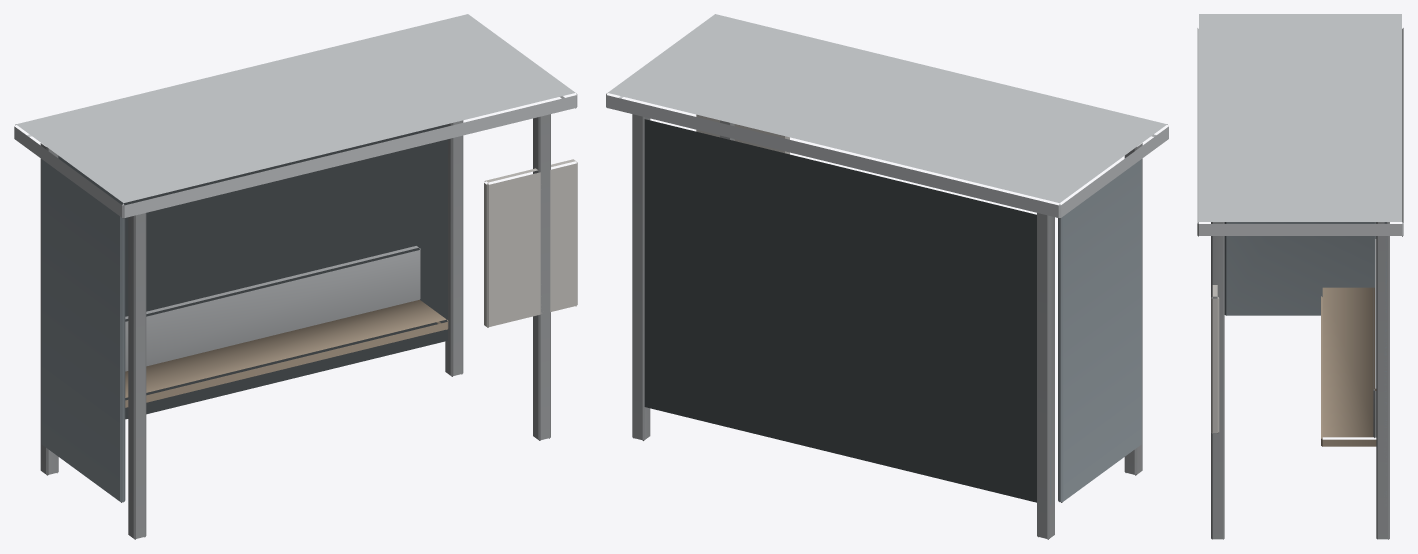
The model's file is bus_shelter.glb.
3 views of the same model, side by side, from view 1: azimuth 30°, elevation 25°; view 2: azimuth 150°, elevation 25°; view 3: azimuth 270°, elevation 25° (orthographic). The views are drawn at different scales.
Parts seen in each view (by area): view 1: props_bus_shelter; view 2: props_bus_shelter; view 3: props_bus_shelter.
Boxes of the visible parts, x1,y1,x2,y2 form: props_bus_shelter: (14, 14, 577, 539); props_bus_shelter: (606, 14, 1168, 539); props_bus_shelter: (1197, 14, 1403, 539).
Bounding box in the file's own units: 3.66 × 2.62 × 1.5.
